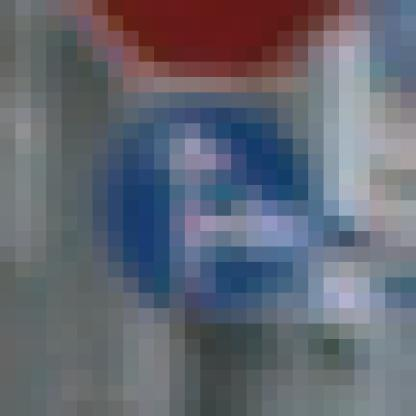Straight or Right: (93, 78, 340, 340)
